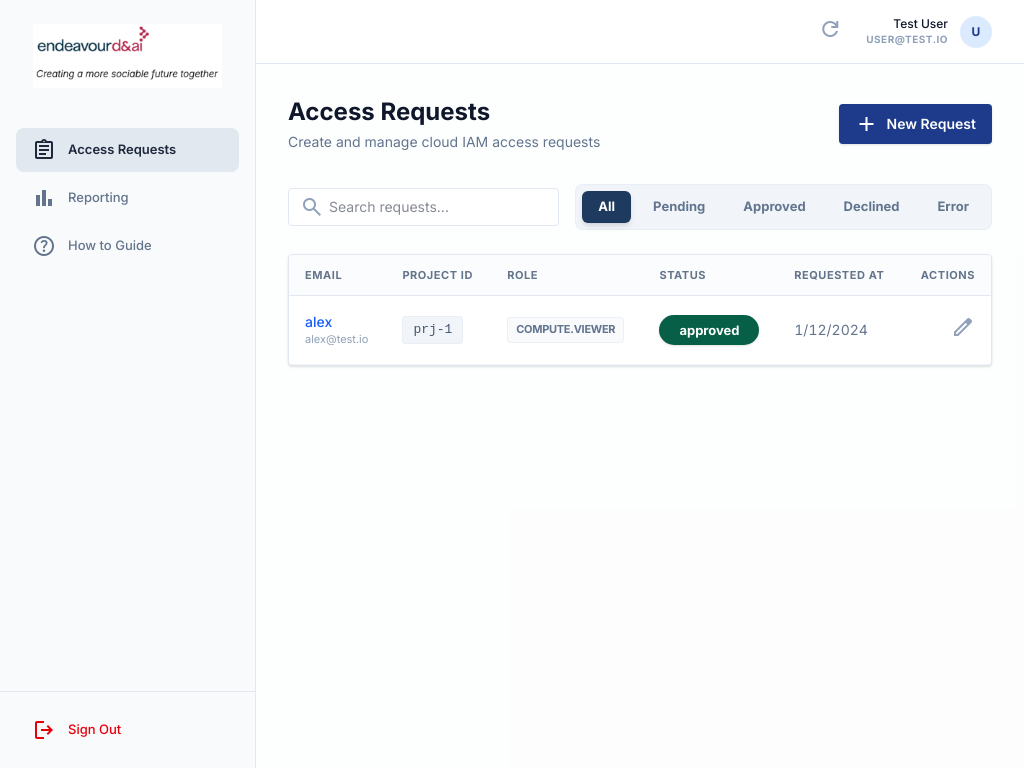
Test: App › edit modal shows raw_comments when present
Expected: the text "Access Requests" is shown, [68,140,176,160]
Click the button "alex".
click(319, 322)  # box [305,312,332,332]
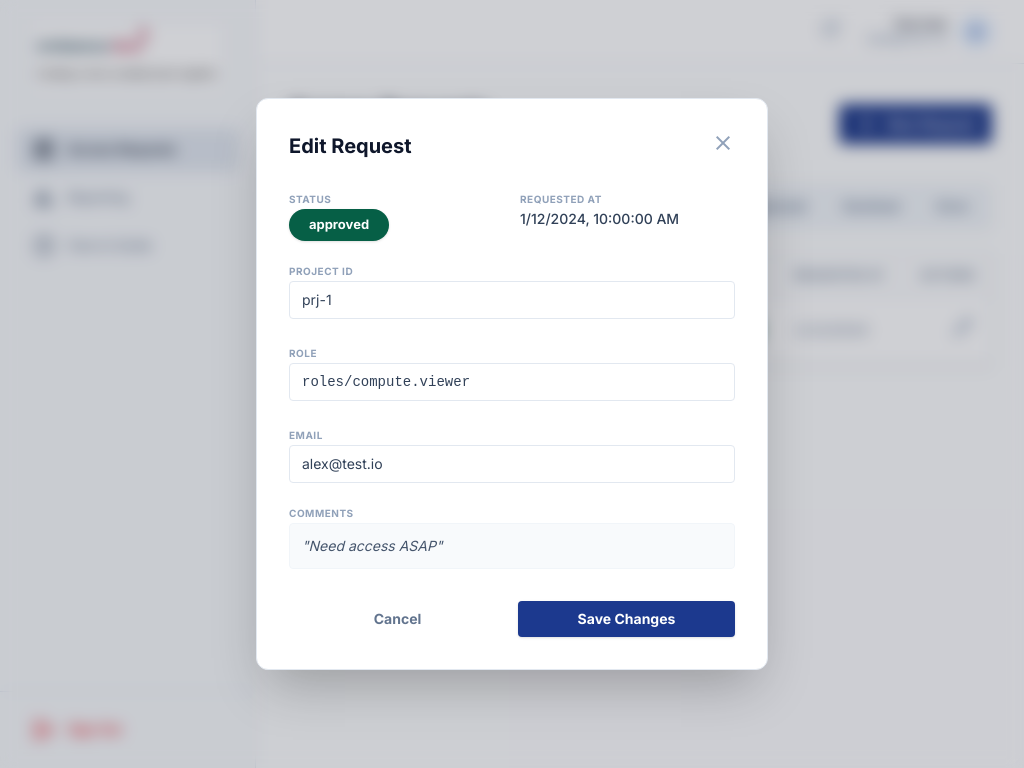
Expected: the text "\"Need access ASAP\"" is shown, [289,523,735,569]
